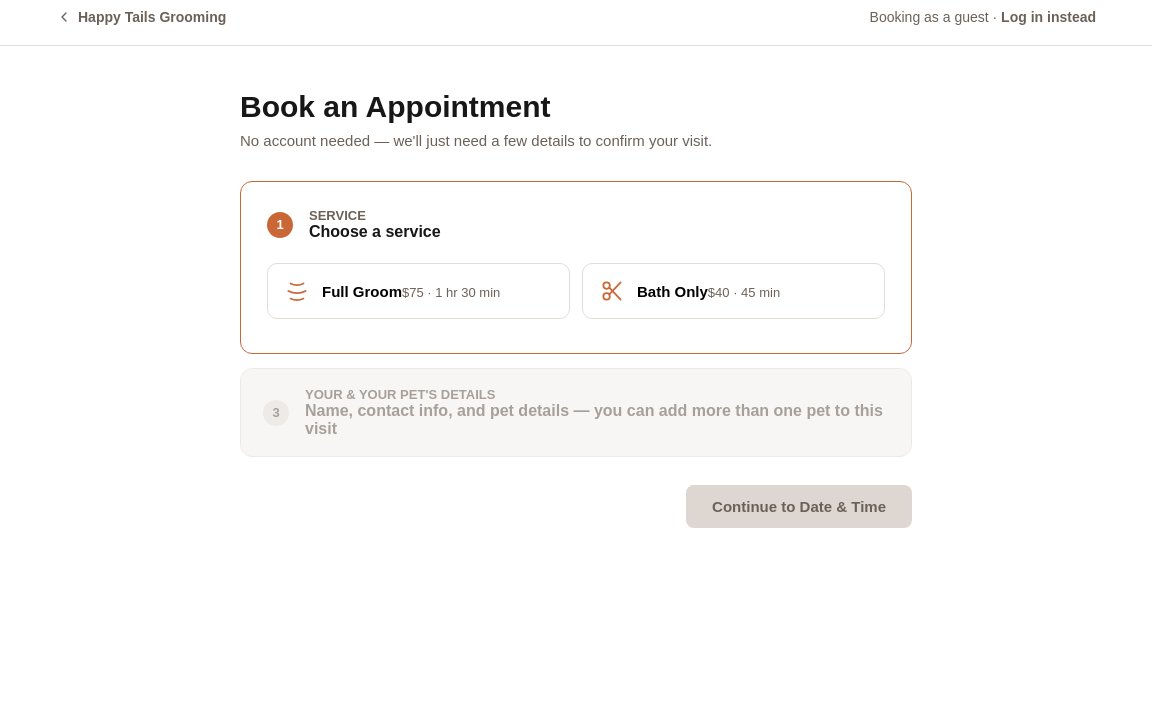
Test: BookingWizard — step state transitions › advances to step 3 once a slot is picked and Continue is clicked
Step 1. Click the button "Full Groom$75 · 1 hr 30 min" → (418, 291), box x1=267 y1=263 x2=570 y2=319
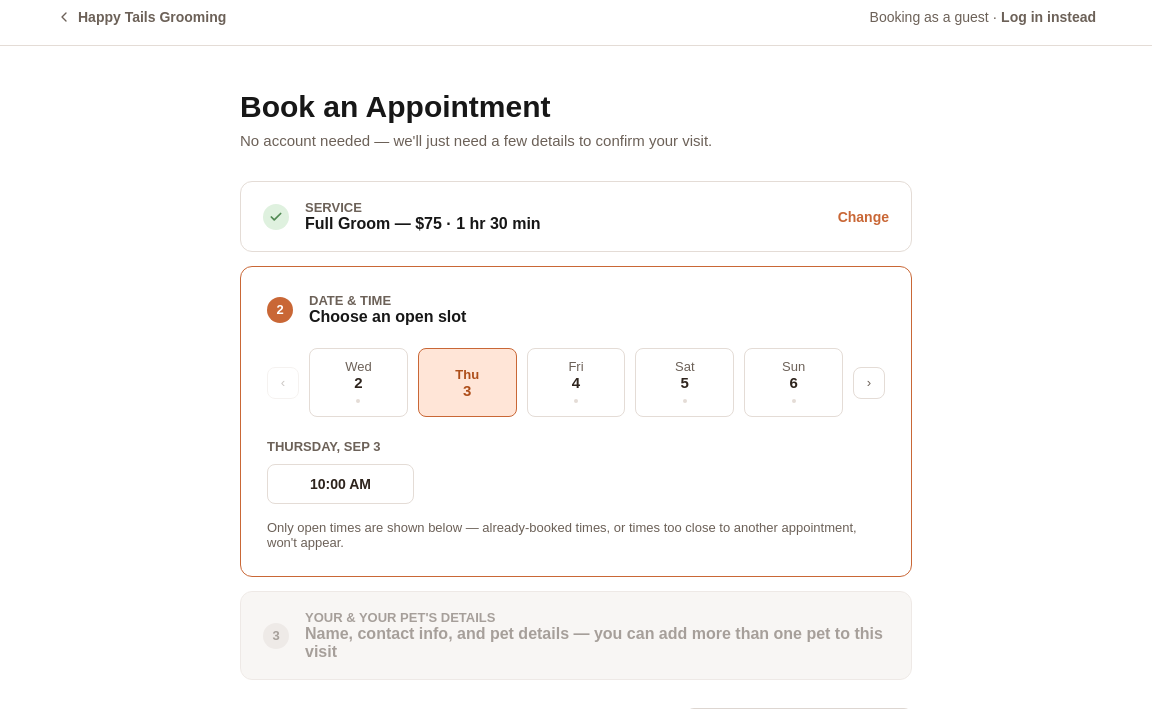
Step 2. Click the button "10:00 AM" → (340, 484), box x1=267 y1=464 x2=414 y2=504
(page scrolled)
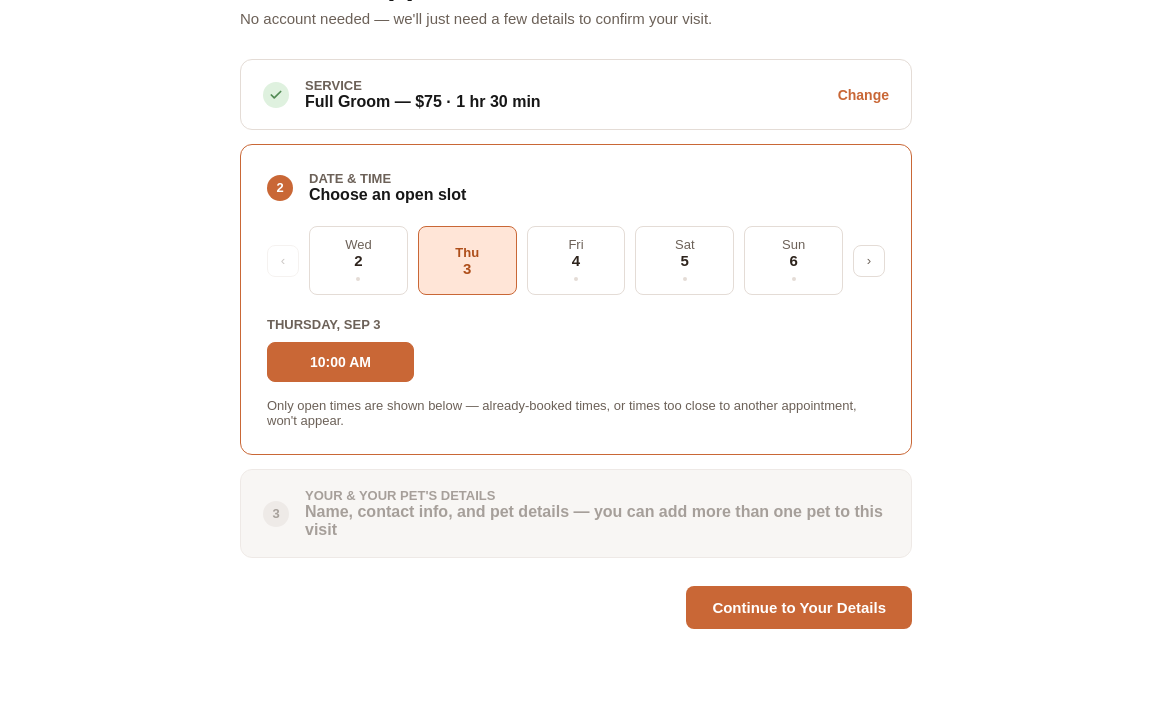
Step 3. Click the button with test id "booking-wizard-continue-to-details-button" → (799, 608), box x1=686 y1=586 x2=912 y2=629
(page scrolled)
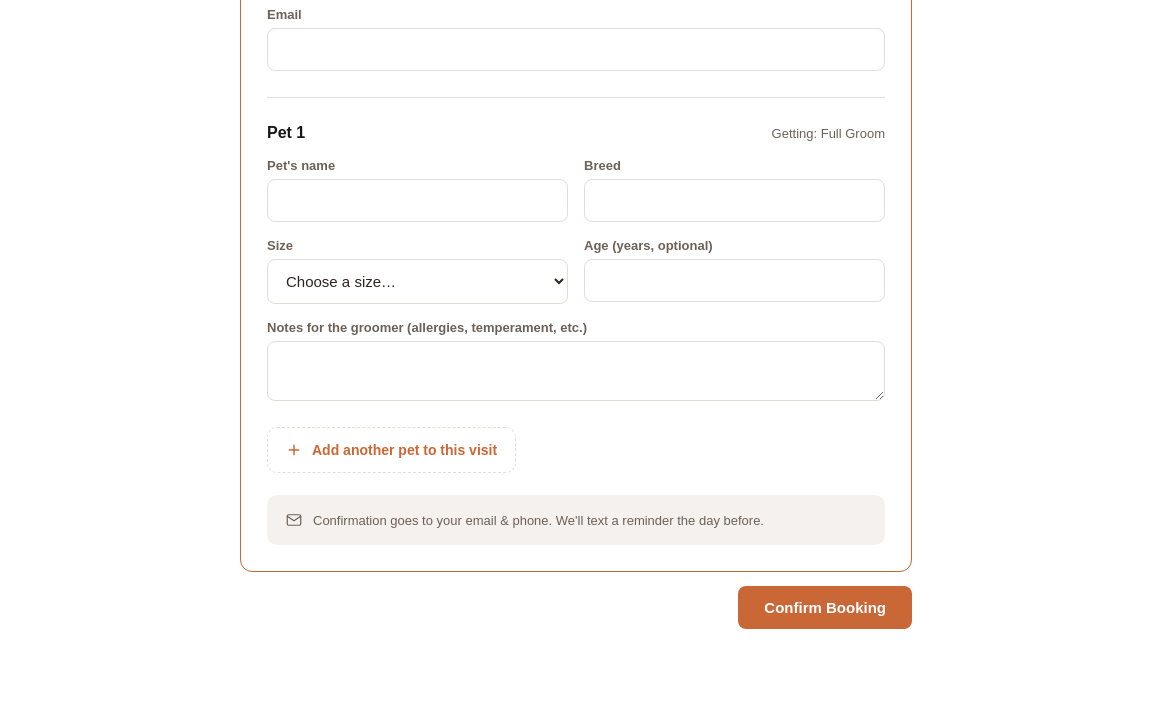
Expected: the button with test id "booking-wizard-confirm-button" is shown, x1=738 y1=586 x2=912 y2=629
